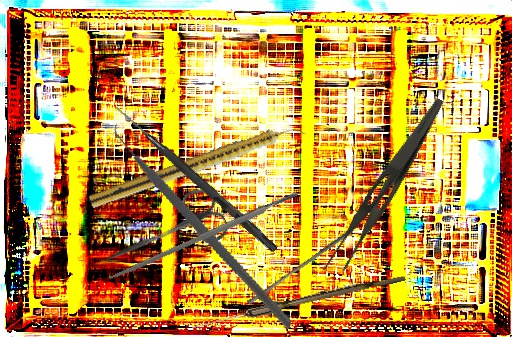Chopper: (74, 109, 335, 330)
Dressing Forceps: (319, 86, 446, 284)
Handpiece: (87, 117, 307, 214)
Hook Surgical: (110, 103, 281, 254)
Iris Scissors: (95, 183, 232, 287)
Pusher: (246, 224, 354, 309)
Scalpel Handle: (108, 190, 300, 283)
Surgical Spoon: (191, 270, 406, 334)
